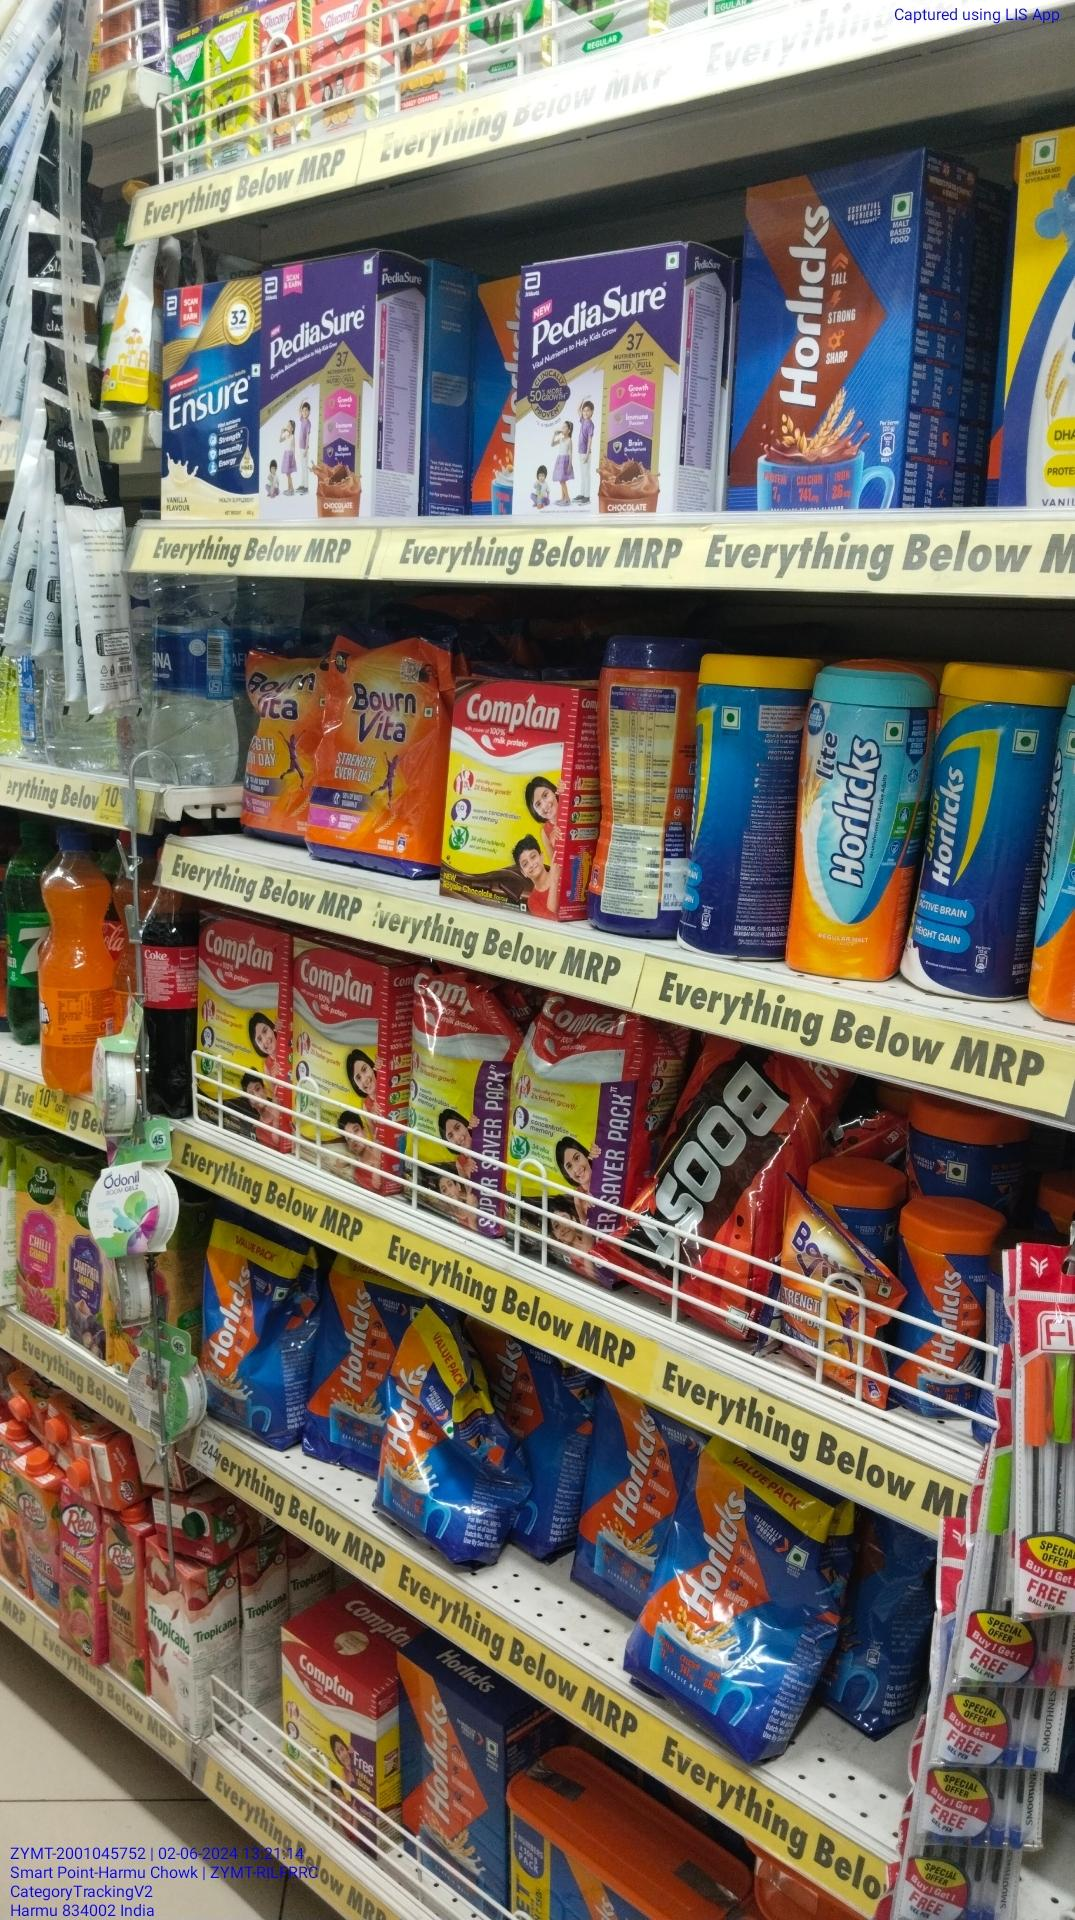HORLICKS_LITE_REGULAR_MALT_500_GM_JAR: (787, 657, 925, 988)
PEDIASURE_CHOCOLATE_500_G_PACK: (521, 247, 689, 520), (269, 249, 385, 526)
